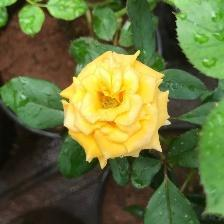rose: (60, 51, 172, 171)
